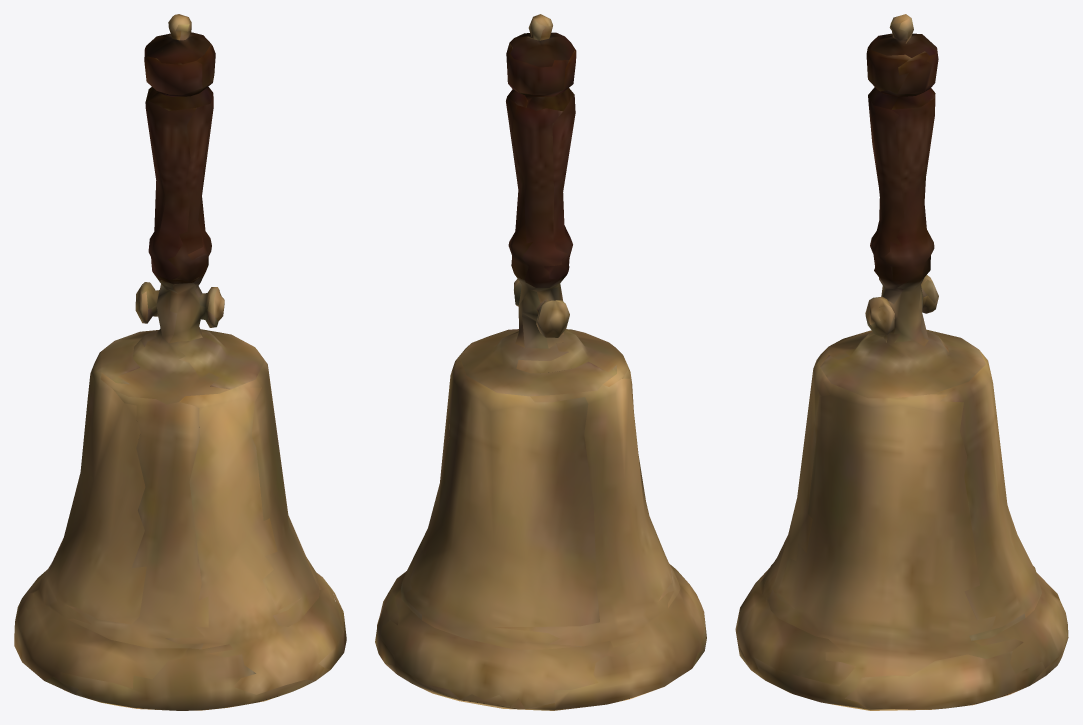
File: campana.movil.glb
3 views of the same model, side by side, from view 1: azimuth 30°, elevation 25°; view 2: azimuth 150°, elevation 25°; view 3: azimuth 270°, elevation 25° (orthographic).
Visible parts, largest first — view 1: geometry_0; view 2: geometry_0; view 3: geometry_0.
Part boxes in pixels (x1,y1,x2,y2): geometry_0: [14, 14, 346, 710]; geometry_0: [375, 14, 706, 710]; geometry_0: [735, 14, 1068, 710].
Size of the model in its own units: 0.1197 by 0.2496 by 0.12.
Materials: 1 (1 with a texture image).
